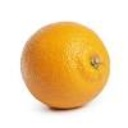orange: (18, 19, 113, 110)
